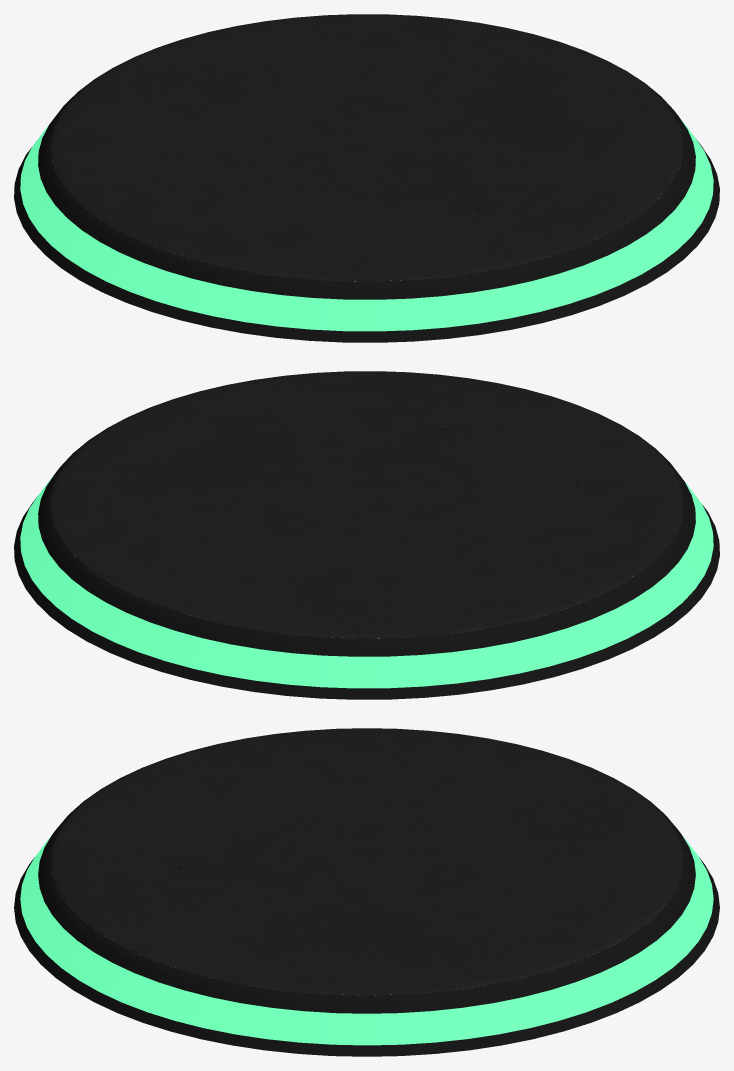
Rendered from jb2around1.glb.
3 views of the same model, one above another, from view 1: azimuth 30°, elevation 25°; view 2: azimuth 150°, elevation 25°; view 3: azimuth 270°, elevation 25° (orthographic).
Visible parts, largest first — view 1: base; view 2: base; view 3: base.
Part boxes in pixels (x1,y1,x2,y2): base: (14,14,719,342); base: (14,371,719,699); base: (14,728,719,1056).
Size of the model in its own units: 1.95 by 0.1473 by 1.95.
3 materials, 1 textured.
